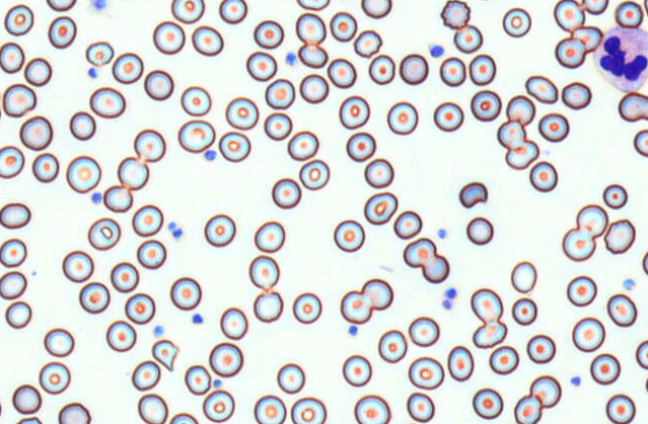GRAN: (594, 25, 648, 92)
PLT: (620, 275, 637, 295), (443, 287, 460, 304), (89, 0, 107, 16), (203, 147, 219, 163), (429, 44, 445, 59), (568, 374, 584, 389), (171, 226, 186, 241), (152, 325, 167, 340), (283, 52, 297, 67), (90, 193, 103, 206), (440, 298, 453, 311), (436, 226, 448, 240), (348, 324, 360, 337), (191, 314, 203, 326), (87, 68, 99, 79), (166, 220, 177, 231), (212, 378, 223, 389)
RBC: (66, 155, 101, 193), (177, 119, 215, 153), (208, 342, 243, 377), (408, 356, 444, 390), (470, 287, 503, 323), (572, 316, 605, 352), (561, 227, 595, 261), (2, 83, 36, 117), (363, 191, 397, 225), (225, 96, 259, 130), (19, 115, 52, 150), (603, 218, 635, 254), (89, 86, 125, 118), (133, 128, 166, 162), (152, 20, 185, 54), (576, 203, 608, 238), (248, 254, 279, 290), (87, 217, 120, 250), (340, 290, 372, 324), (117, 156, 149, 190), (169, 276, 201, 310), (204, 213, 236, 247), (386, 101, 418, 135), (338, 95, 370, 129), (353, 394, 390, 423), (529, 375, 561, 408), (38, 361, 70, 394), (202, 389, 234, 422), (333, 219, 365, 252), (606, 293, 637, 327), (361, 278, 393, 310), (553, 0, 585, 32), (78, 281, 110, 313), (253, 220, 285, 252), (131, 204, 163, 236), (111, 52, 143, 84), (218, 130, 250, 162), (377, 329, 407, 363), (554, 37, 586, 68), (295, 12, 326, 44), (472, 387, 503, 419), (105, 320, 136, 352), (62, 250, 93, 282), (298, 159, 330, 190), (124, 292, 155, 324), (191, 25, 223, 56), (470, 89, 501, 121), (403, 237, 436, 267), (342, 354, 372, 387), (219, 306, 248, 340), (472, 320, 507, 348), (290, 396, 326, 423), (447, 345, 474, 381), (408, 316, 439, 347), (566, 275, 597, 306), (264, 78, 295, 109), (143, 69, 174, 100), (180, 85, 211, 116), (433, 101, 464, 132), (253, 290, 283, 322), (590, 353, 620, 385), (292, 292, 322, 324), (271, 177, 301, 209), (287, 130, 319, 160), (4, 4, 34, 36), (253, 394, 286, 423), (47, 15, 76, 48), (505, 94, 535, 125), (137, 393, 168, 423), (43, 327, 74, 357), (605, 393, 636, 423), (364, 157, 394, 188), (253, 19, 284, 49), (246, 51, 277, 81), (346, 131, 376, 162), (538, 112, 569, 142), (276, 362, 305, 394), (525, 75, 558, 103), (136, 239, 166, 269), (496, 119, 526, 149), (299, 73, 329, 103), (131, 360, 160, 391), (618, 91, 647, 122), (488, 345, 519, 374), (110, 261, 139, 292), (327, 57, 356, 88), (399, 53, 428, 84), (529, 160, 557, 192), (468, 53, 496, 85), (510, 260, 537, 293), (440, 0, 470, 29), (12, 384, 41, 414), (453, 24, 483, 53), (502, 7, 531, 37), (561, 81, 591, 110), (571, 25, 603, 52), (393, 210, 422, 239), (23, 57, 52, 86), (526, 334, 555, 363), (421, 253, 449, 283), (103, 184, 133, 212), (406, 392, 434, 422), (329, 11, 357, 41), (31, 152, 59, 182), (184, 364, 211, 395), (0, 202, 31, 229), (513, 394, 541, 423), (614, 0, 643, 28), (353, 29, 382, 57), (263, 112, 292, 140), (0, 237, 27, 267), (69, 110, 96, 140), (368, 54, 395, 84), (439, 56, 466, 86), (0, 145, 24, 178), (0, 270, 27, 299), (466, 216, 493, 245), (298, 42, 328, 68), (0, 41, 24, 73), (171, 0, 204, 23), (4, 300, 31, 328), (85, 40, 114, 66), (511, 297, 537, 325), (57, 402, 91, 423), (218, 0, 247, 24), (602, 183, 627, 209), (360, 0, 392, 18), (633, 129, 647, 157), (582, 0, 608, 15), (635, 339, 647, 369), (296, 0, 330, 10), (168, 412, 198, 423), (46, 0, 76, 11), (15, 416, 42, 423), (642, 250, 647, 275), (643, 0, 648, 16), (645, 374, 648, 394), (475, 0, 500, 2)
Schistocyte: (151, 340, 181, 372), (507, 142, 536, 169), (460, 183, 490, 209)
